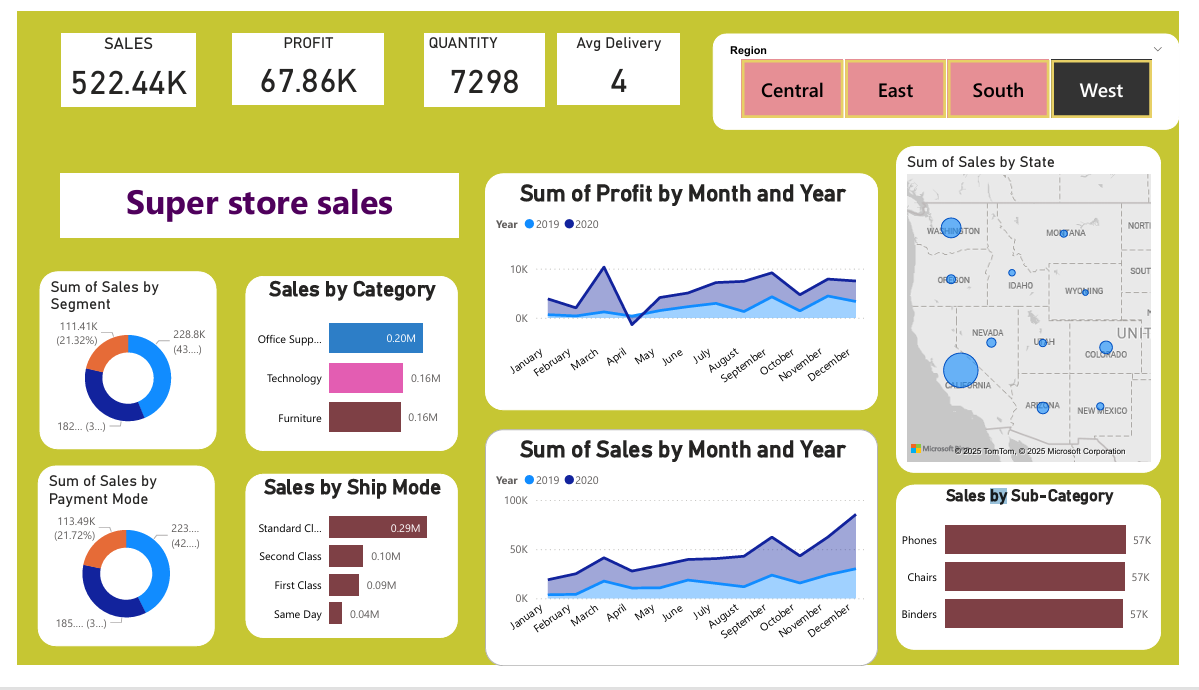

Layout of this report page (visuals, bound fields, positions):
{"tool":"powerbi","page":{"name":"Page 1","canvas":[1280,720],"ordinal":0},"visuals":[{"type":"clusteredBarChart","title":"Sales by Category","fields":{"Category":["SuperStore_Sales_Dataset.Category"],"Y":["Sum(SuperStore_Sales_Dataset.Sales)"]},"box":[251.3,291.1,233.8,192.5],"z":0},{"type":"clusteredBarChart","title":"Sales by Sub-Category","fields":{"Y":["Sum(SuperStore_Sales_Dataset.Sales)"],"Category":["SuperStore_Sales_Dataset.Sub-Category"]},"box":[968.1,520.5,291.6,182.3],"z":1000},{"type":"clusteredBarChart","title":"Sales by Ship Mode","fields":{"Category":["SuperStore_Sales_Dataset.Ship Mode"],"Y":["Sum(SuperStore_Sales_Dataset.Sales)"]},"box":[251.3,509,233.8,181.3],"z":2000},{"type":"stackedAreaChart","fields":{"Y":["Sum(SuperStore_Sales_Dataset.Profit)"],"Category":["SuperStore_Sales_Dataset.Order Date.Variation.Date Hierarchy.Month"],"Series":["SuperStore_Sales_Dataset.Order Date.Variation.Date Hierarchy.Year"]},"box":[515.4,178.1,432.6,260.9],"z":3000},{"type":"donutChart","fields":{"Y":["Sum(SuperStore_Sales_Dataset.Sales)"],"Category":["SuperStore_Sales_Dataset.Segment"]},"box":[24.3,285.6,194.4,196.5],"z":4000},{"type":"donutChart","fields":{"Y":["Sum(SuperStore_Sales_Dataset.Sales)"],"Category":["SuperStore_Sales_Dataset.Payment Mode"]},"box":[22.3,500.3,194.4,198.5],"z":5000},{"type":"map","fields":{"Size":["Sum(SuperStore_Sales_Dataset.Sales)"],"Category":["SuperStore_Sales_Dataset.State"]},"box":[968.1,147.8,291.6,360.5],"z":6000},{"type":"slicer","fields":{"Values":["SuperStore_Sales_Dataset.Region"]},"box":[765.6,24.3,514.4,105.3],"z":7000},{"type":"card","title":"SALES","fields":{"Values":["Sum(SuperStore_Sales_Dataset.Sales)"]},"box":[47.7,23.9,147.9,81.1],"z":8000},{"type":"card","title":"PROFIT","fields":{"Values":["Sum(SuperStore_Sales_Dataset.Profit)"]},"box":[237,23.9,167,79.5],"z":9000},{"type":"card","title":"QUANTITY","fields":{"Values":["Sum(SuperStore_Sales_Dataset.Quantity)"]},"box":[447.6,24.3,133.7,81],"z":10000},{"type":"card","title":"Avg Delivery","fields":{"Values":["Avg(SuperStore_Sales_Dataset.AvgDelivery)"]},"box":[594.9,23.9,135.2,79.5],"z":11000},{"type":"stackedAreaChart","fields":{"Y":["Sum(SuperStore_Sales_Dataset.Sales)"],"Category":["SuperStore_Sales_Dataset.Order Date.Variation.Date Hierarchy.Month"],"Series":["SuperStore_Sales_Dataset.Order Date.Variation.Date Hierarchy.Year"]},"box":[515.4,459.7,432.6,260.9],"z":12000},{"type":"textbox","box":[46.6,178.2,439.5,70.9],"z":13000}]}

Visuals, with their boxes in screenshot pixels (x1, y1, x2, y2), scaled from the page's 1280x720 canvas onto the 1199x690 screenshot:
"Sales by Category" clusteredBarChart: bbox=(235, 279, 454, 463)
"Sales by Sub-Category" clusteredBarChart: bbox=(907, 499, 1180, 674)
"Sales by Ship Mode" clusteredBarChart: bbox=(235, 488, 454, 662)
stackedAreaChart - Sum(SuperStore_Sales_Dataset.Profit) x SuperStore_Sales_Dataset.Order Date.Variation.Date Hierarchy.Month: bbox=(483, 171, 888, 421)
donutChart - Sum(SuperStore_Sales_Dataset.Sales) x SuperStore_Sales_Dataset.Segment: bbox=(23, 274, 205, 462)
donutChart - Sum(SuperStore_Sales_Dataset.Sales) x SuperStore_Sales_Dataset.Payment Mode: bbox=(21, 479, 203, 670)
map - Sum(SuperStore_Sales_Dataset.Sales) x SuperStore_Sales_Dataset.State: bbox=(907, 142, 1180, 487)
slicer - SuperStore_Sales_Dataset.Region: bbox=(717, 23, 1198, 124)
"SALES" card: bbox=(45, 23, 183, 101)
"PROFIT" card: bbox=(222, 23, 378, 99)
"QUANTITY" card: bbox=(419, 23, 545, 101)
"Avg Delivery" card: bbox=(557, 23, 684, 99)
stackedAreaChart - Sum(SuperStore_Sales_Dataset.Sales) x SuperStore_Sales_Dataset.Order Date.Variation.Date Hierarchy.Month: bbox=(483, 441, 888, 689)
textbox: bbox=(44, 171, 455, 239)
